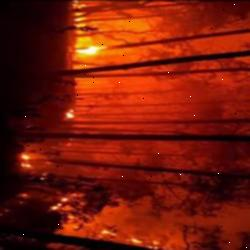fire: (19, 149, 163, 249), (61, 3, 110, 128)
